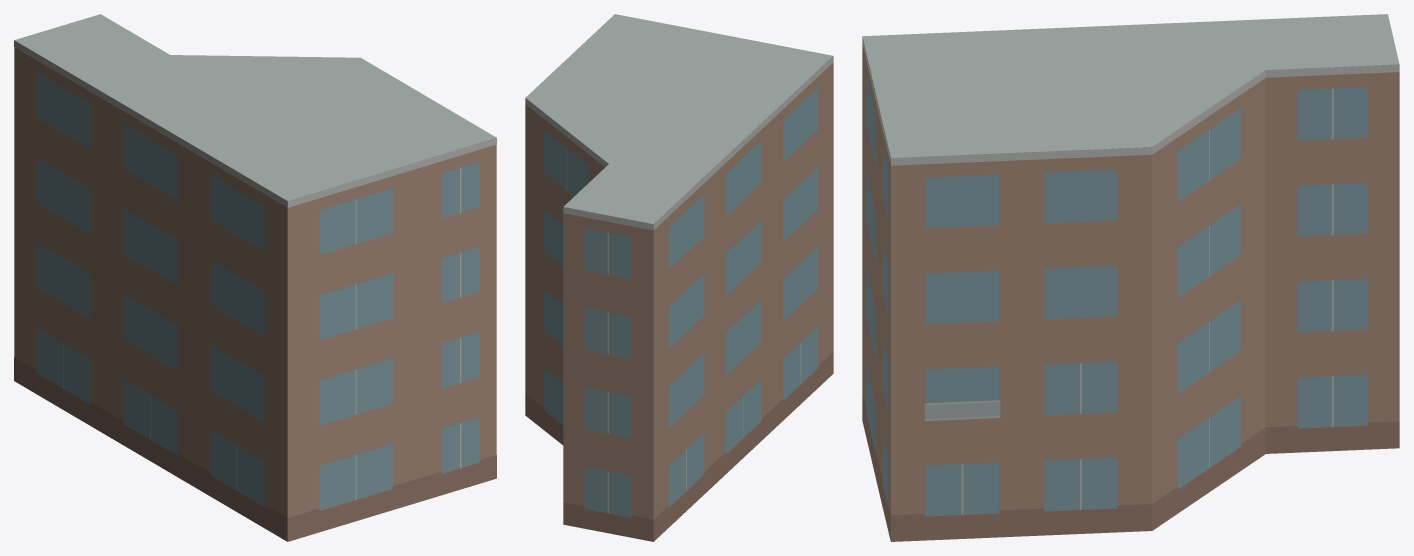
File: residential-b6a59536-b2dc-4359-9813-75cfb6ebbdea.glb
3 views of the same model, side by side, from view 1: azimuth 30°, elevation 25°; view 2: azimuth 150°, elevation 25°; view 3: azimuth 270°, elevation 25° (orthographic). The views are drawn at different scales.
Visible parts, largest first — view 1: residential-b6a59536-b2dc-4359-9813-75cfb6ebbdea.tmp; view 2: residential-b6a59536-b2dc-4359-9813-75cfb6ebbdea.tmp; view 3: residential-b6a59536-b2dc-4359-9813-75cfb6ebbdea.tmp.
Boxes of the visible parts, box(x1,y1,x2,y2) form: residential-b6a59536-b2dc-4359-9813-75cfb6ebbdea.tmp: box(14, 14, 496, 541); residential-b6a59536-b2dc-4359-9813-75cfb6ebbdea.tmp: box(525, 14, 833, 541); residential-b6a59536-b2dc-4359-9813-75cfb6ebbdea.tmp: box(862, 14, 1399, 541).
Size of the model in its own units: 9.83 by 12.2 by 15.49.
